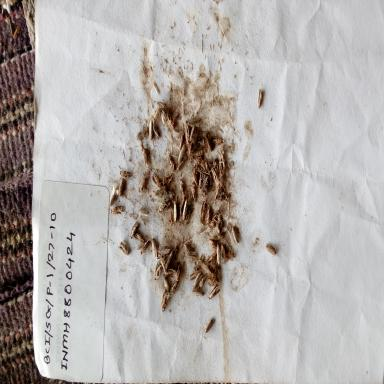pbw: (201, 153, 216, 177), (256, 88, 269, 115), (199, 171, 212, 198), (160, 286, 172, 312), (214, 210, 225, 238), (202, 313, 216, 335), (183, 235, 197, 257), (210, 161, 222, 186), (213, 238, 223, 266), (218, 146, 228, 174), (149, 234, 159, 262), (155, 181, 168, 202), (190, 282, 206, 299), (163, 248, 175, 270), (140, 146, 151, 170), (118, 176, 128, 202), (182, 246, 198, 262), (118, 164, 134, 180), (132, 238, 147, 255), (231, 223, 241, 248), (174, 176, 185, 198), (190, 180, 200, 204), (188, 266, 202, 283), (136, 126, 148, 145), (186, 115, 202, 129), (108, 180, 116, 208), (157, 197, 170, 214), (211, 130, 224, 147), (192, 165, 202, 187), (129, 220, 140, 240), (192, 270, 204, 288), (118, 238, 130, 256), (199, 199, 207, 225), (222, 249, 235, 265), (138, 172, 148, 192), (151, 171, 162, 189), (194, 253, 205, 271), (213, 182, 224, 200), (153, 259, 162, 281), (208, 284, 220, 300), (188, 148, 204, 160), (216, 192, 232, 204), (208, 233, 217, 254), (206, 201, 213, 227), (167, 152, 176, 172), (208, 210, 217, 230), (200, 261, 212, 276), (176, 156, 187, 172), (146, 119, 154, 141), (140, 238, 150, 255), (166, 114, 176, 131), (137, 205, 150, 218), (162, 190, 176, 202), (162, 172, 174, 186), (110, 205, 124, 217), (157, 236, 168, 251), (151, 80, 161, 96), (162, 274, 170, 294), (170, 278, 180, 294), (178, 143, 186, 163), (133, 230, 145, 243), (155, 98, 166, 112), (152, 106, 160, 125), (207, 276, 219, 288), (152, 124, 161, 140), (210, 267, 218, 285), (175, 262, 182, 282), (205, 132, 212, 152), (172, 200, 178, 223), (178, 130, 184, 152), (182, 199, 188, 221), (179, 196, 185, 218), (160, 108, 167, 126), (160, 257, 167, 275), (192, 128, 199, 146), (206, 251, 216, 263), (188, 125, 195, 142), (196, 137, 207, 147), (220, 242, 226, 260), (184, 127, 189, 147), (162, 268, 176, 275), (185, 206, 191, 222), (159, 248, 171, 256), (189, 140, 193, 156)
